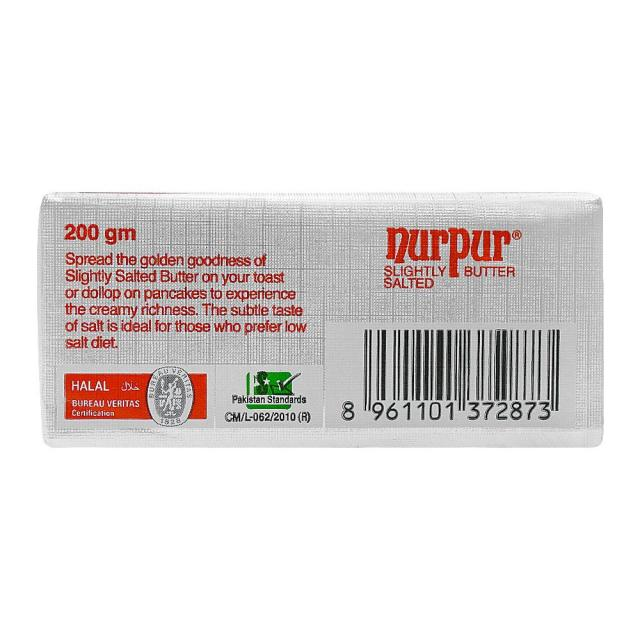butter: (38, 190, 604, 447)
